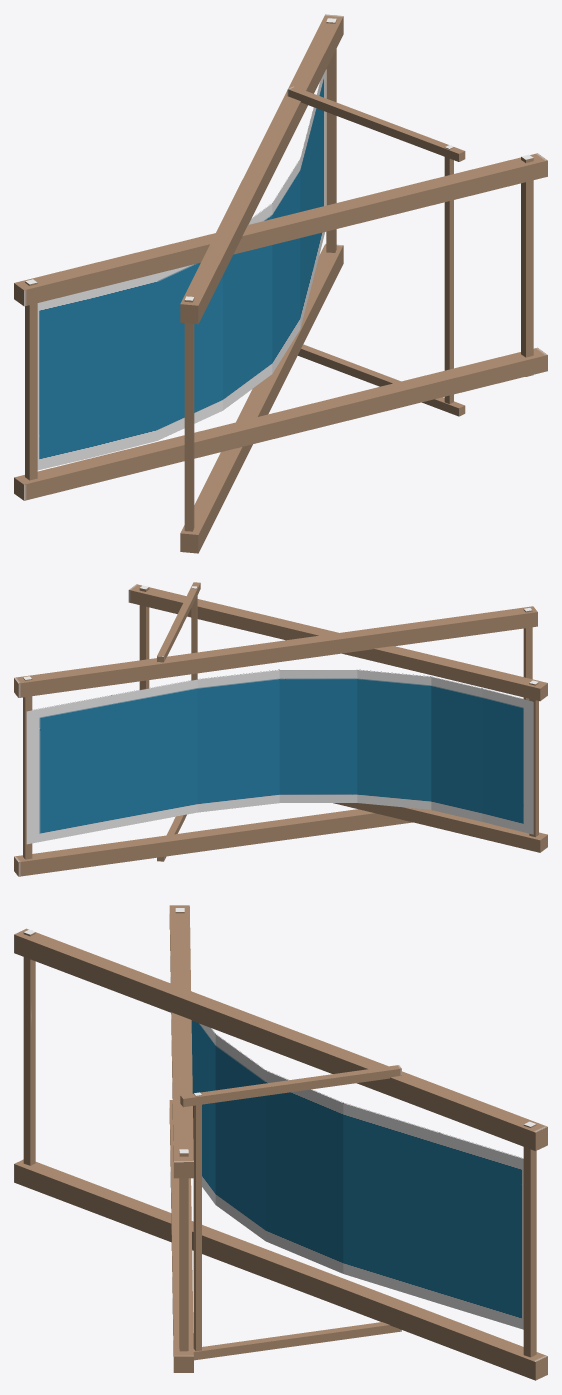
Rendered from pool chair.fbx.
3 views of the same model, one above another, from view 1: azimuth 30°, elevation 25°; view 2: azimuth 150°, elevation 25°; view 3: azimuth 270°, elevation 25° (orthographic). The views are drawn at different scales.
Parts seen in each view (by area): view 1: Chair; view 2: Chair; view 3: Chair.
Part boxes in pixels (x1,y1,x2,y2): Chair: [14, 14, 547, 553]; Chair: [14, 582, 547, 876]; Chair: [14, 905, 547, 1380].
Bounding box in the file's own units: 5920 × 2837 × 5201.
